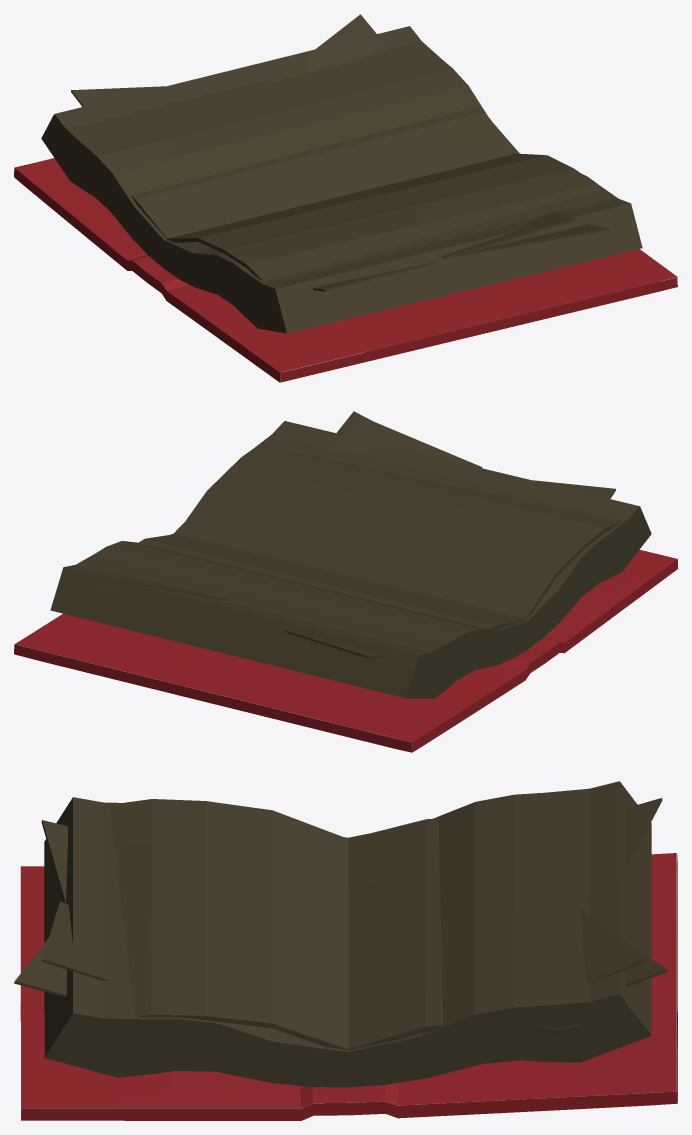
Rendered from enemy0.obj.
3 views of the same model, one above another, from view 1: azimuth 30°, elevation 25°; view 2: azimuth 150°, elevation 25°; view 3: azimuth 270°, elevation 25° (orthographic). The views are drawn at different scales.
Visible parts, largest first — view 1: Book1_Open_Cube.106; view 2: Book1_Open_Cube.106; view 3: Book1_Open_Cube.106.
Part boxes in pixels (box(x1,y1,x2,y2)): Book1_Open_Cube.106: box(14, 14, 677, 382); Book1_Open_Cube.106: box(14, 411, 677, 752); Book1_Open_Cube.106: box(14, 781, 677, 1120).
Size of the model in its own units: 7.4 by 1.76 by 8.65.
Materials: 2 (1 with a texture image).
